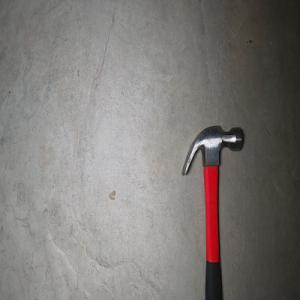Hammer: (180, 124, 243, 300)
